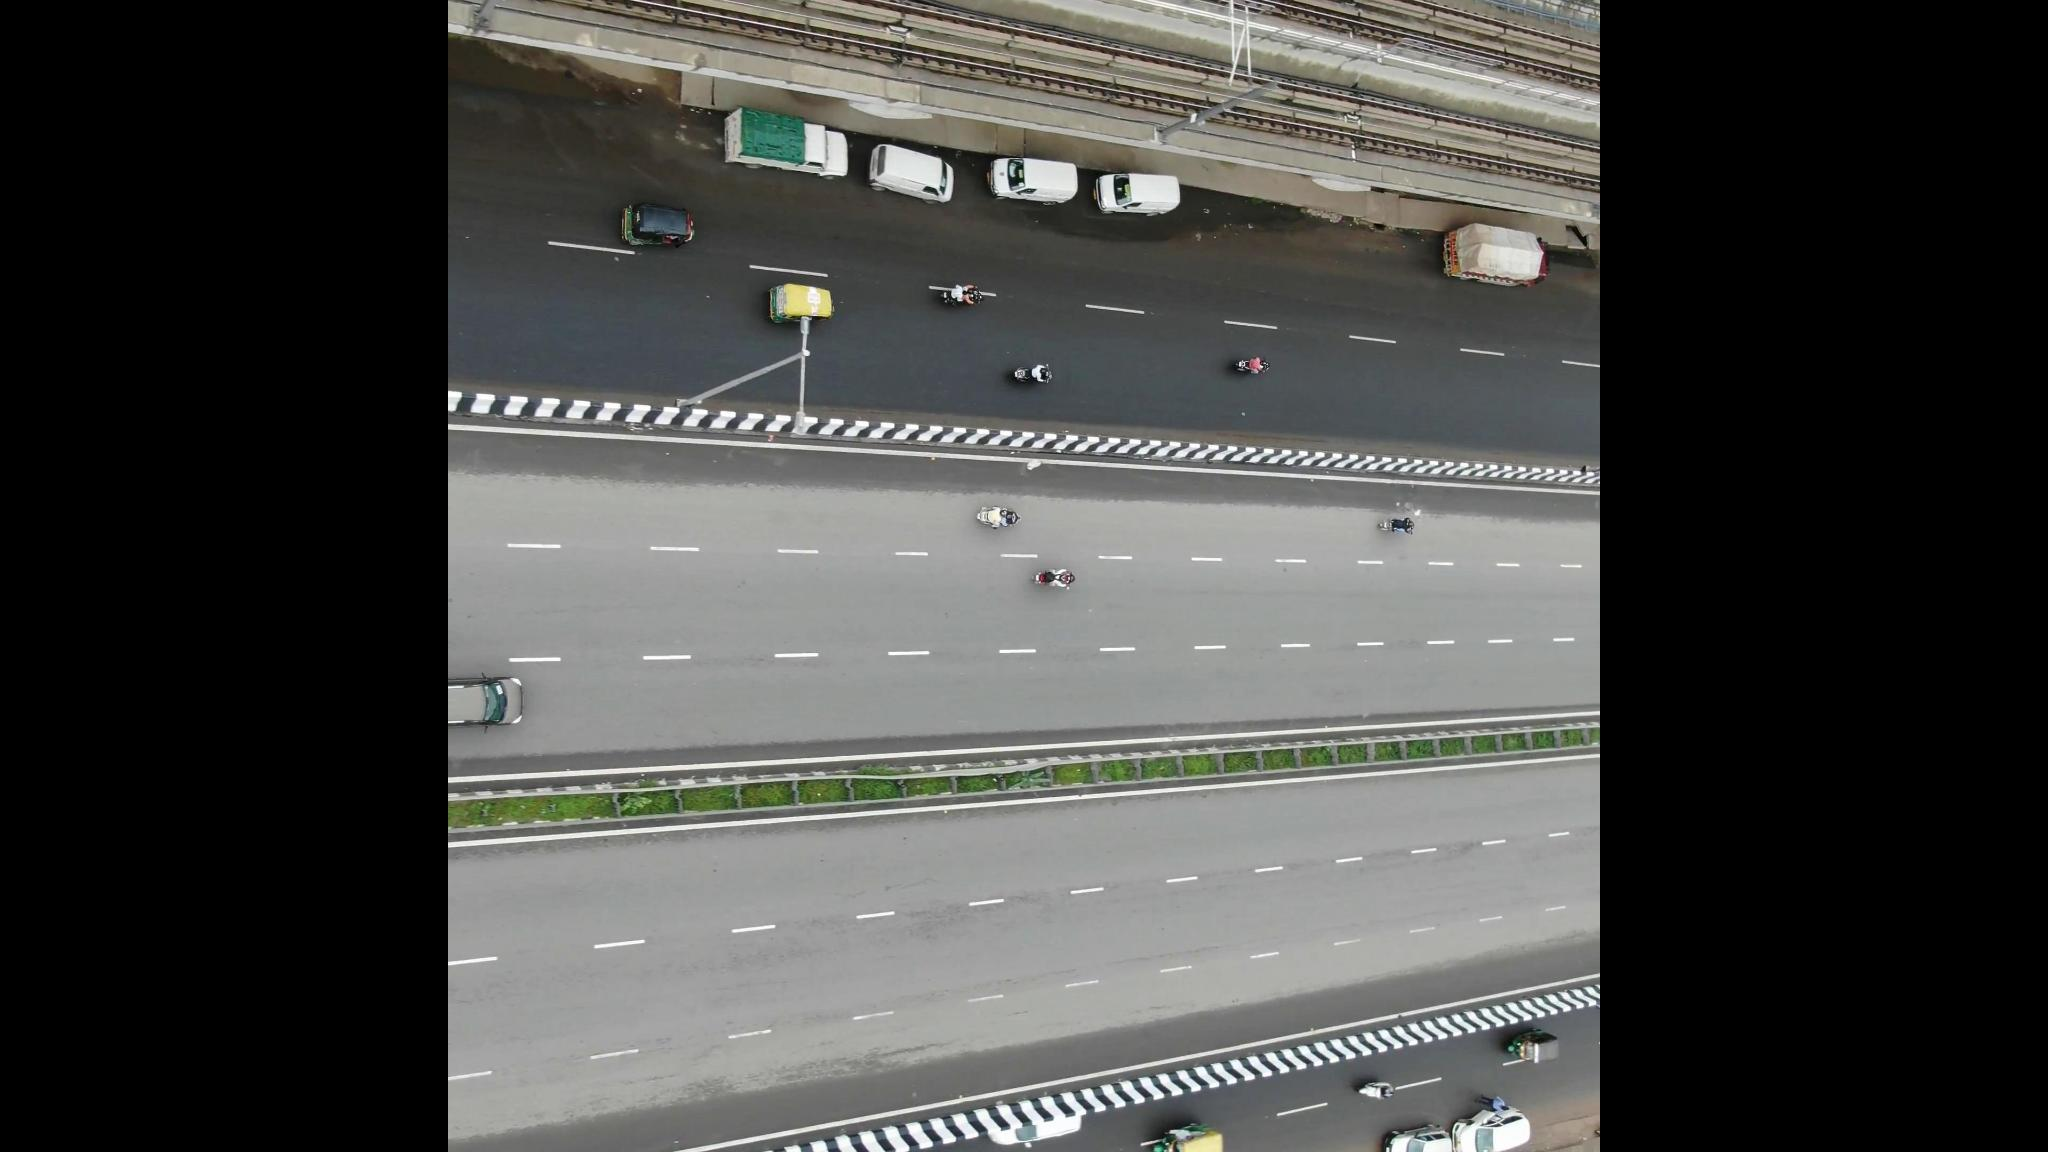Cracks: (821, 871, 973, 934)
